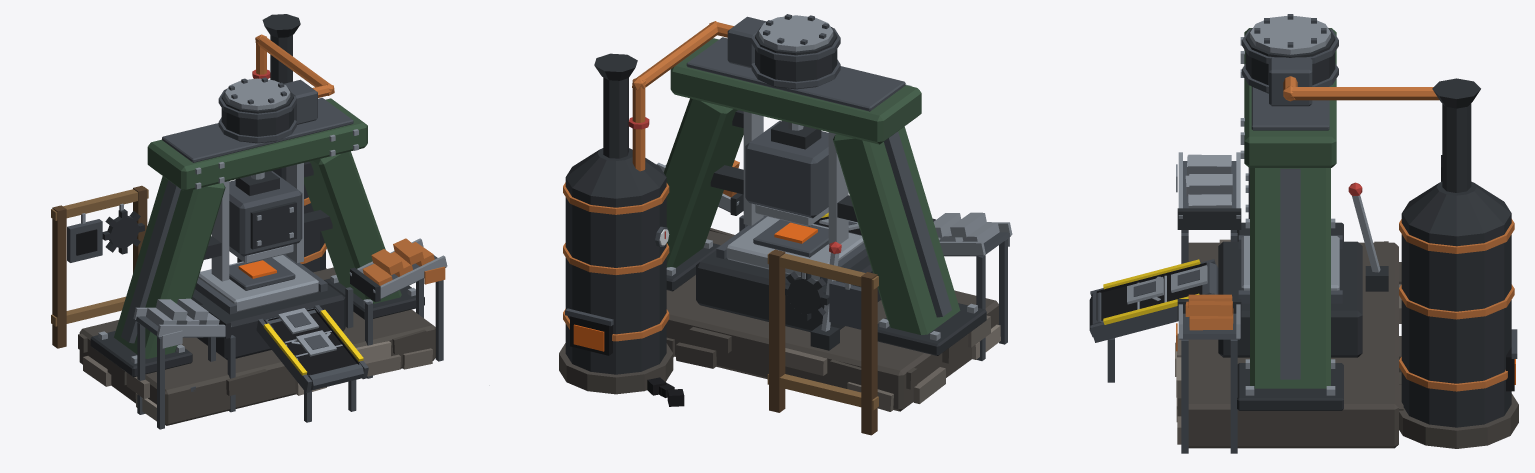
Rendered from estampeuse_t1.glb.
The picture shows the model from 3 angles, left to right: view 1: azimuth 30°, elevation 25°; view 2: azimuth 150°, elevation 25°; view 3: azimuth 270°, elevation 25°; orthographic projection. The views are drawn at different scales.
Parts seen in each view (by area): view 1: pieces_acier_sombre.015, massif.005, jambe_-1.003, pieces_acier.015, traverse.003, jambe_1.003, pieces_fonte.015, pieces_cuivre.007, chabotte.003, traverse_chapeau.003, marteau_masse.003, pieces_bois_sombre.005 (+20 smaller); view 2: chaudiere.005, jambe_-1.003, massif.005, traverse.003, pieces_acier_sombre.015, jambe_1.003, pieces_fonte.015, pieces_acier.015, marteau_masse.003, pieces_bois_sombre.005, chabotte.003, traverse_chapeau.003 (+24 smaller); view 3: chaudiere.005, massif.005, jambe_1.003, pieces_acier_sombre.015, pieces_fonte.015, chabotte.003, pieces_acier.015, traverse.003, chaudiere_dome.005, pieces_cuivre.007, chaudiere_socle.005, traverse_chapeau.003 (+15 smaller).
Part boxes in pixels (box(x1,y1,x2,y2)): pieces_acier_sombre.015: box(67, 77, 446, 429); massif.005: box(79, 267, 435, 425); jambe_-1.003: box(114, 176, 225, 358); pieces_acier.015: box(81, 129, 447, 363); traverse.003: box(147, 98, 367, 191); jambe_1.003: box(304, 151, 401, 303); pieces_fonte.015: box(90, 35, 424, 377); pieces_cuivre.007: box(255, 34, 445, 285); chabotte.003: box(192, 284, 345, 359); traverse_chapeau.003: box(162, 97, 353, 162); marteau_masse.003: box(229, 171, 302, 256); pieces_bois_sombre.005: box(52, 185, 147, 348); chaudiere.005: box(565, 178, 666, 374); jambe_-1.003: box(833, 126, 960, 335); massif.005: box(666, 230, 998, 411); traverse.003: box(670, 38, 921, 144); pieces_acier_sombre.015: box(565, 14, 1010, 360); jambe_1.003: box(663, 98, 743, 267); pieces_fonte.015: box(603, 77, 986, 355); pieces_acier.015: box(656, 84, 1012, 340); marteau_masse.003: box(745, 121, 828, 218); pieces_bois_sombre.005: box(769, 249, 877, 435); chabotte.003: box(696, 250, 880, 332); traverse_chapeau.003: box(686, 37, 905, 111); chaudiere.005: box(1401, 213, 1511, 427); massif.005: box(1188, 242, 1398, 448); jambe_1.003: box(1250, 168, 1330, 388); pieces_acier_sombre.015: box(1089, 14, 1517, 453); pieces_fonte.015: box(1177, 103, 1471, 410); chabotte.003: box(1218, 241, 1362, 357); pieces_acier.015: box(1137, 37, 1380, 395); traverse.003: box(1244, 28, 1336, 167); chaudiere_dome.005: box(1402, 181, 1511, 236); pieces_cuivre.007: box(1176, 76, 1439, 351); chaudiere_socle.005: box(1399, 393, 1518, 448); traverse_chapeau.003: box(1251, 86, 1329, 130).
Size of the model in its own units: 2 by 1.73 by 2.
